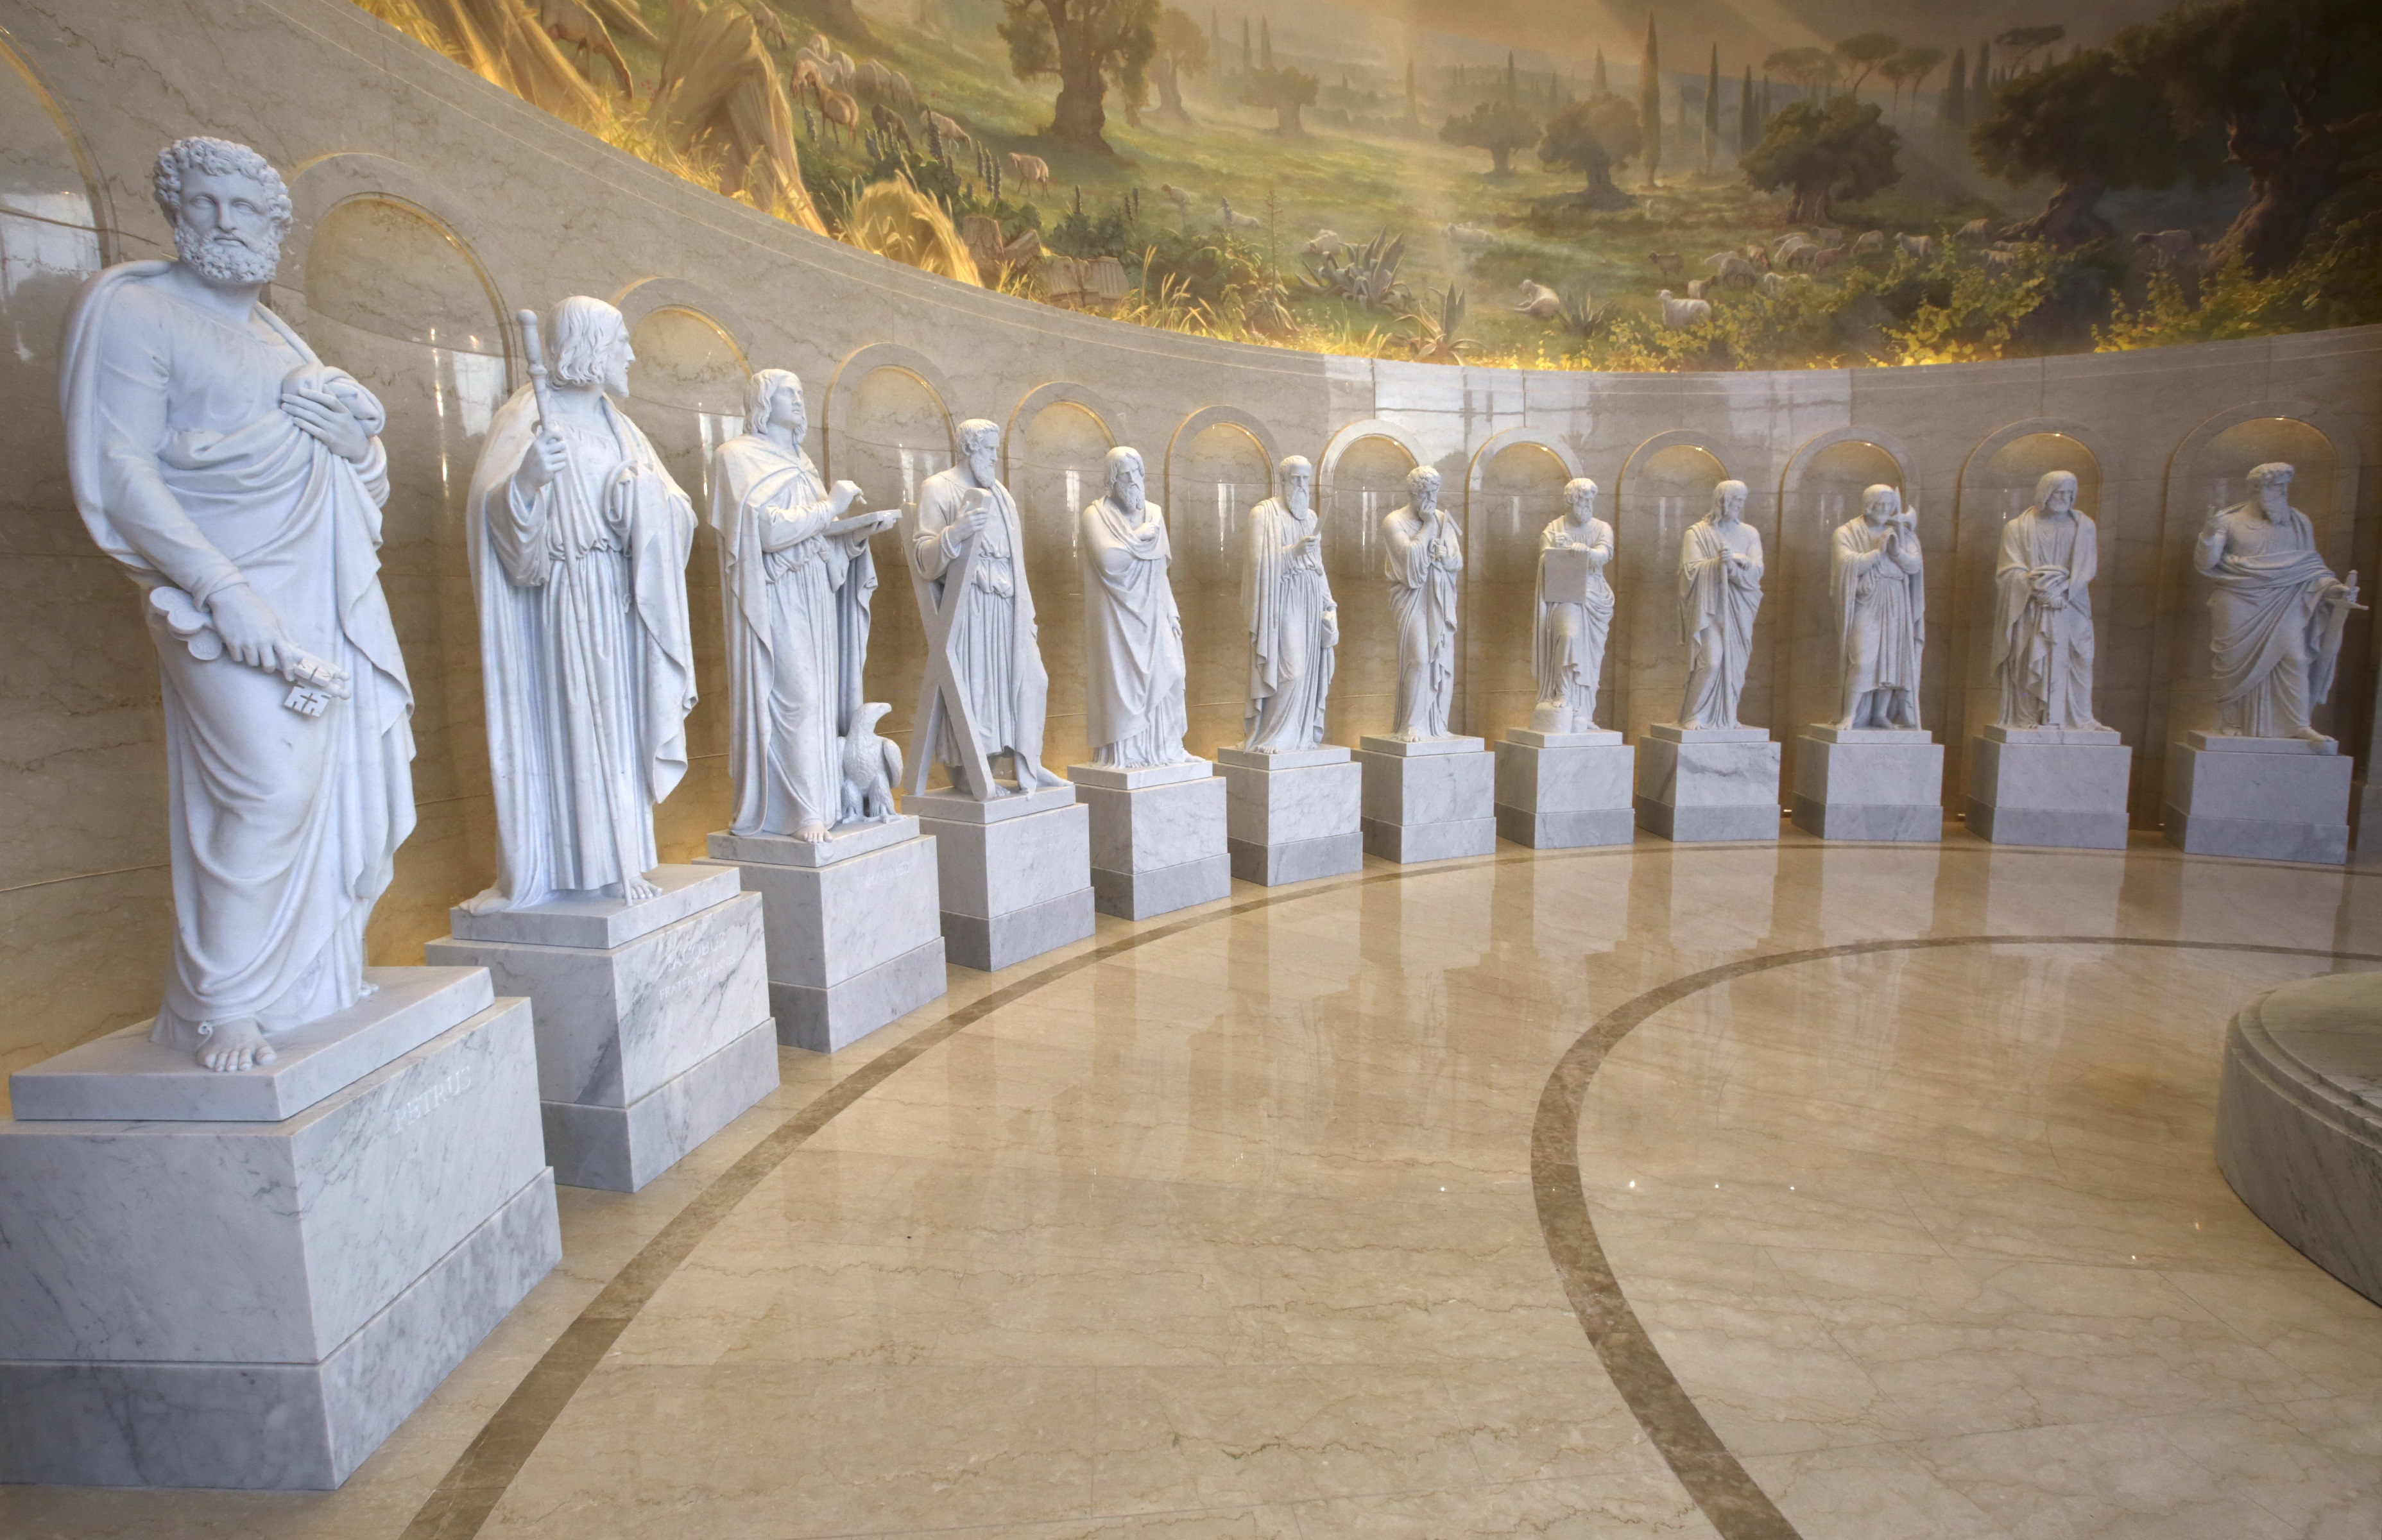person-like: (44, 126, 431, 1082), (459, 288, 708, 907), (698, 359, 906, 855), (908, 409, 1083, 803), (2186, 451, 2370, 749), (1071, 437, 1210, 775), (1234, 447, 1348, 760), (1985, 458, 2108, 733), (1822, 475, 1940, 735), (1376, 459, 1473, 746), (1669, 472, 1773, 735), (1525, 470, 1624, 742)
